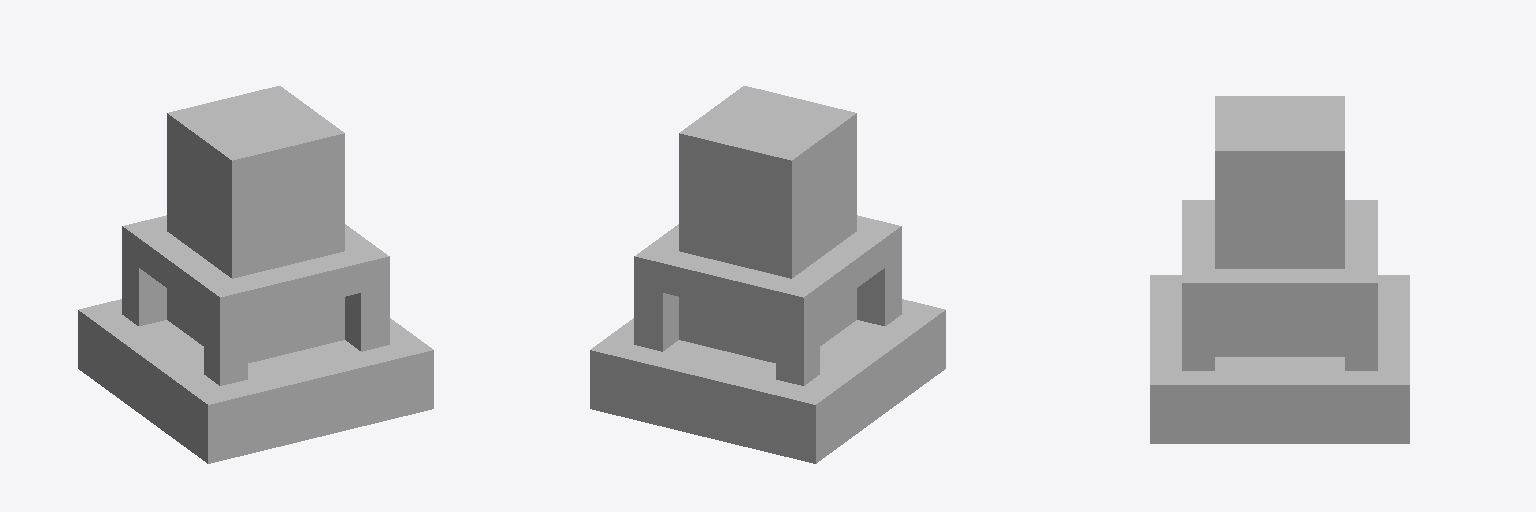
File: bus_interface.obj
The picture shows the model from 3 angles: view 1: azimuth 30°, elevation 25°; view 2: azimuth 150°, elevation 25°; view 3: azimuth 270°, elevation 25°; orthographic projection.
Visible parts, largest first — view 1: BusInterface; view 2: BusInterface; view 3: BusInterface.
Part boxes in pixels (x1,y1,x2,y2): BusInterface: (78, 86, 433, 463); BusInterface: (590, 86, 945, 463); BusInterface: (1150, 96, 1409, 443).
Size of the model in its own units: 0.5 by 0.5625 by 0.5.